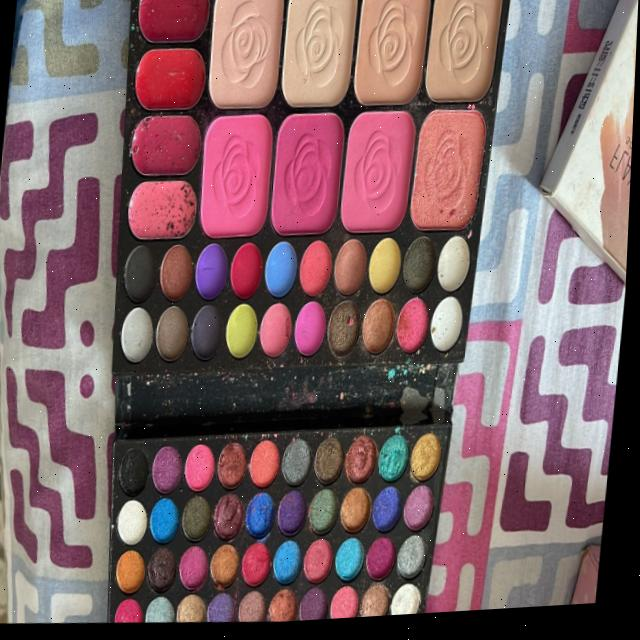eye shade: (76, 0, 501, 635)
